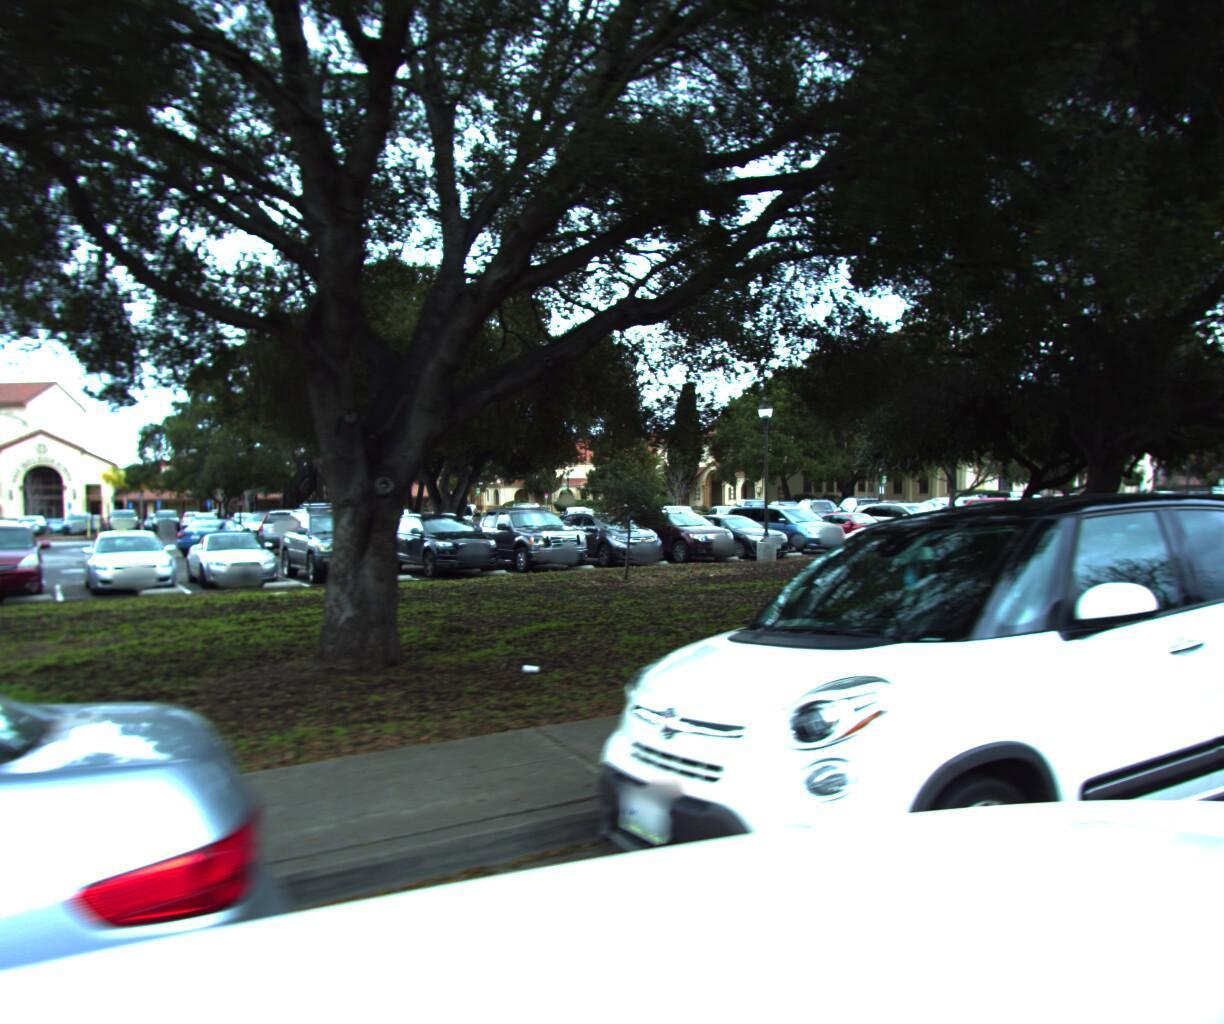car: (536, 481, 1224, 1024)
